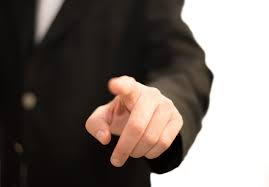hand: (81, 66, 196, 172)
